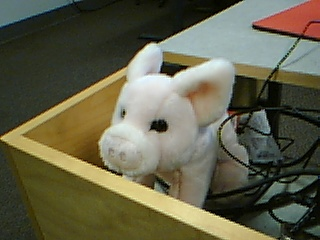piggy: (97, 40, 251, 210)
